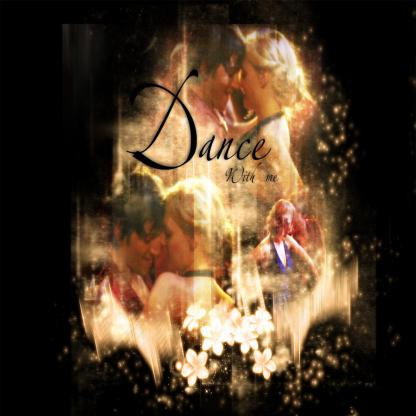face: (200, 40, 239, 114), (127, 210, 163, 275), (240, 47, 276, 111), (160, 211, 191, 273)
